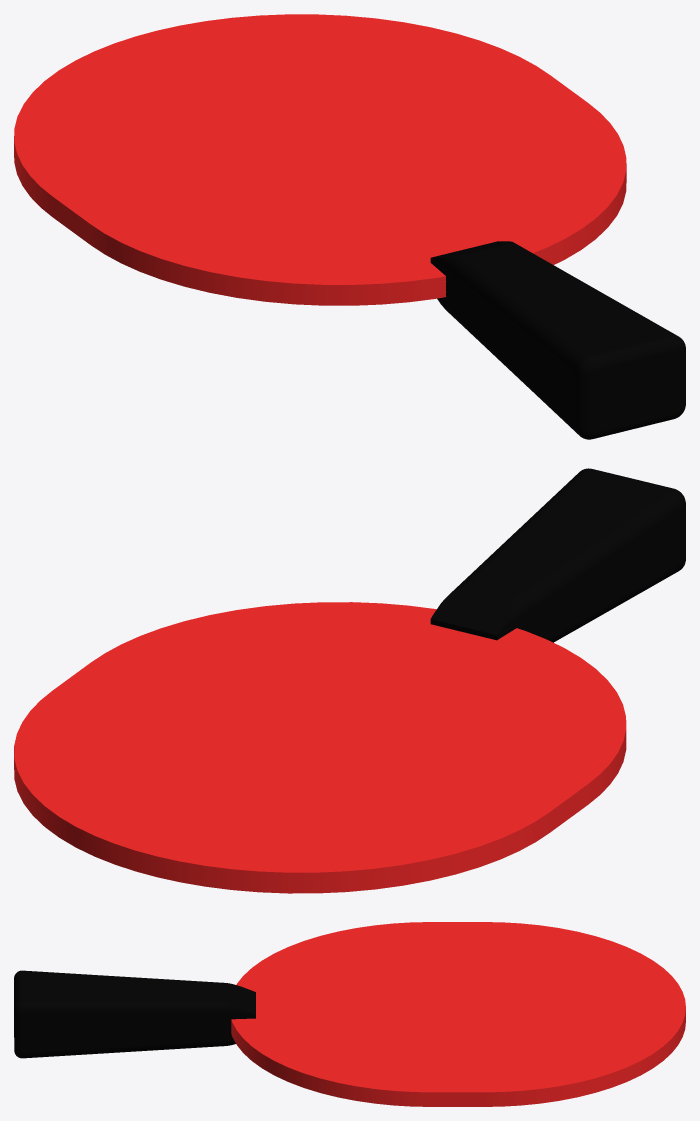
File: racket.fbx
The picture shows the model from 3 angles, top to bottom: view 1: azimuth 30°, elevation 25°; view 2: azimuth 150°, elevation 25°; view 3: azimuth 270°, elevation 25°; orthographic projection. The views are drawn at different scales.
Visible parts, largest first — view 1: Body3, Body2; view 2: Body3, Body2; view 3: Body3, Body2.
Part boxes in pixels (x1,y1,x2,y2): Body3: (14, 14, 626, 305); Body2: (430, 241, 685, 439); Body3: (14, 602, 626, 893); Body2: (430, 468, 685, 642); Body3: (231, 922, 685, 1106); Body2: (14, 970, 255, 1058).
Bounding box in the file's own units: 150 × 23.79 × 250.
